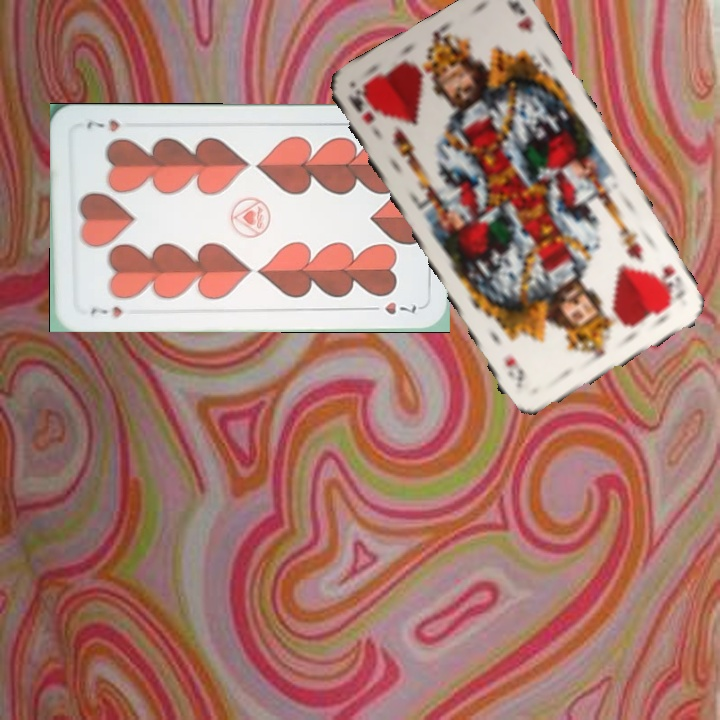H7: (86, 302, 124, 320)
HK: (649, 261, 688, 306), (344, 85, 377, 126)
